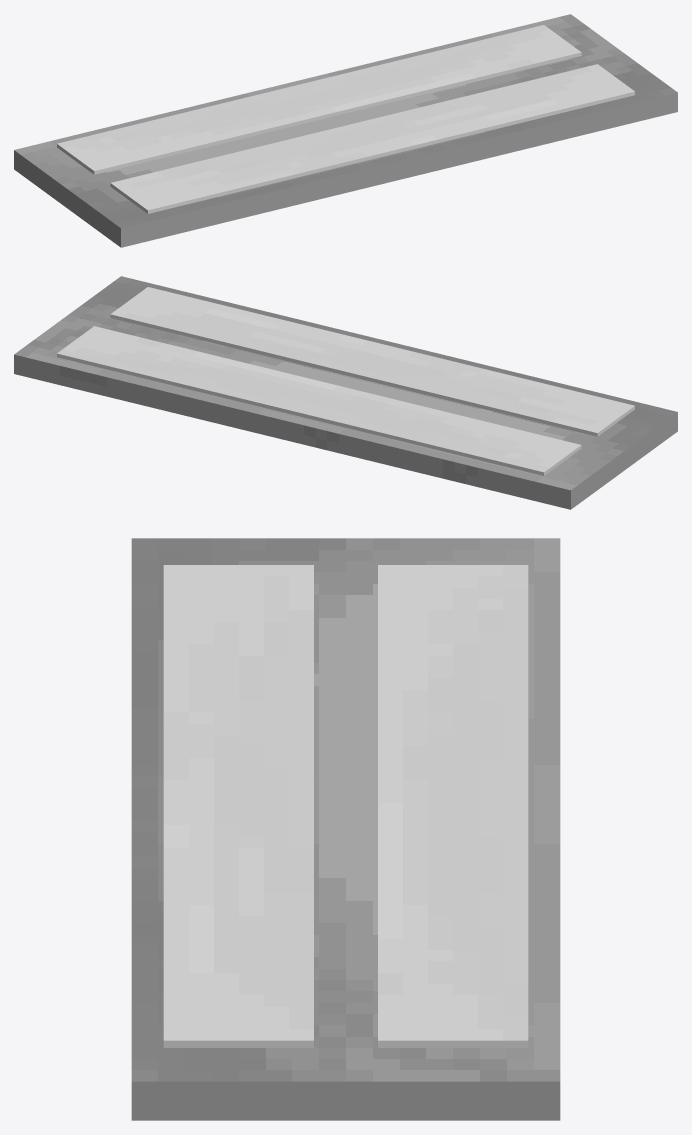
Rendered from Lights.gltf.
The picture shows the model from 3 angles, top to bottom: view 1: azimuth 30°, elevation 25°; view 2: azimuth 150°, elevation 25°; view 3: azimuth 270°, elevation 25°; orthographic projection. The views are drawn at different scales.
Parts seen in each view (by area): view 1: cuboid (×3); view 2: cuboid (×3); view 3: cuboid (×3).
Part boxes in pixels (x1,y1,x2,y2): cuboid (×3): (14, 14, 677, 247); cuboid (×3): (14, 276, 677, 509); cuboid (×3): (131, 538, 560, 1120).
Size of the model in its own units: 3 by 0.1188 by 1.
Materials: 1 (1 with a texture image).
